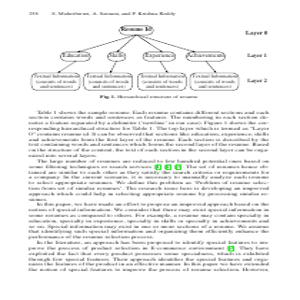diagram: (27, 20, 269, 96)
text: (25, 108, 272, 273)
